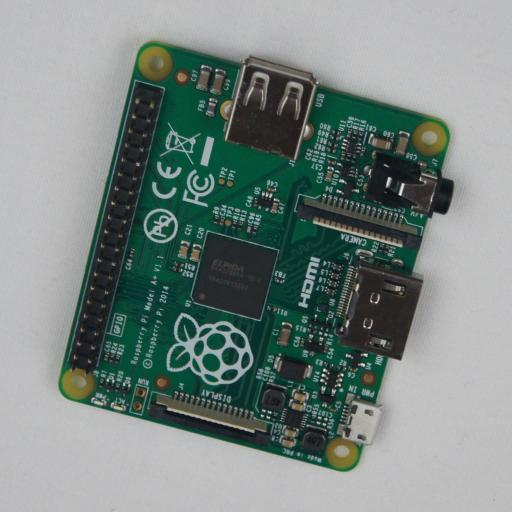Raspberry Pi A-: (58, 40, 454, 472)
